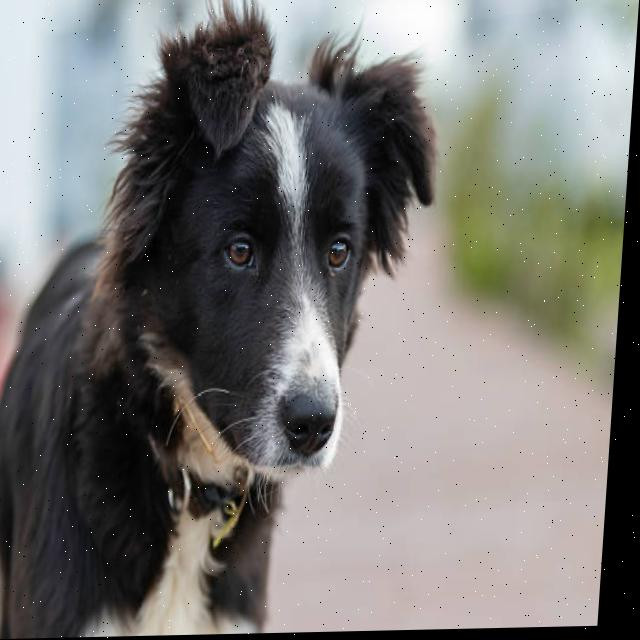BORDER_COLLIE: (0, 0, 463, 640)
